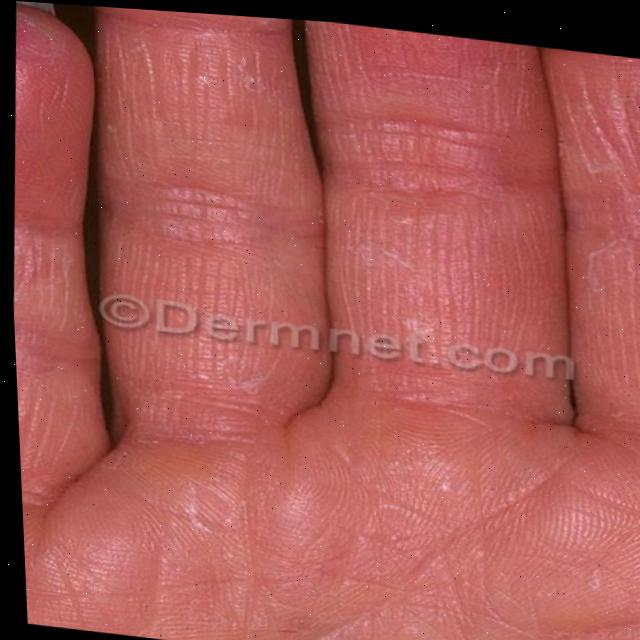Eczema: (184, 49, 300, 122), (388, 301, 478, 391)
